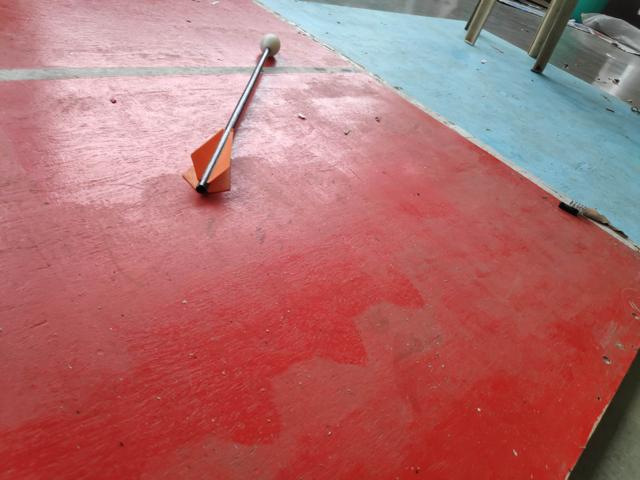Head: (258, 31, 282, 55)
Tail: (181, 124, 238, 198)
